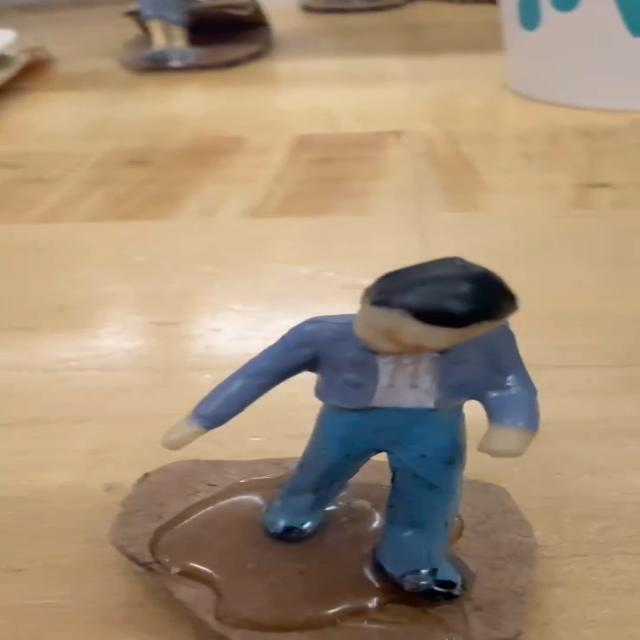Authorized: (157, 256, 542, 611)
